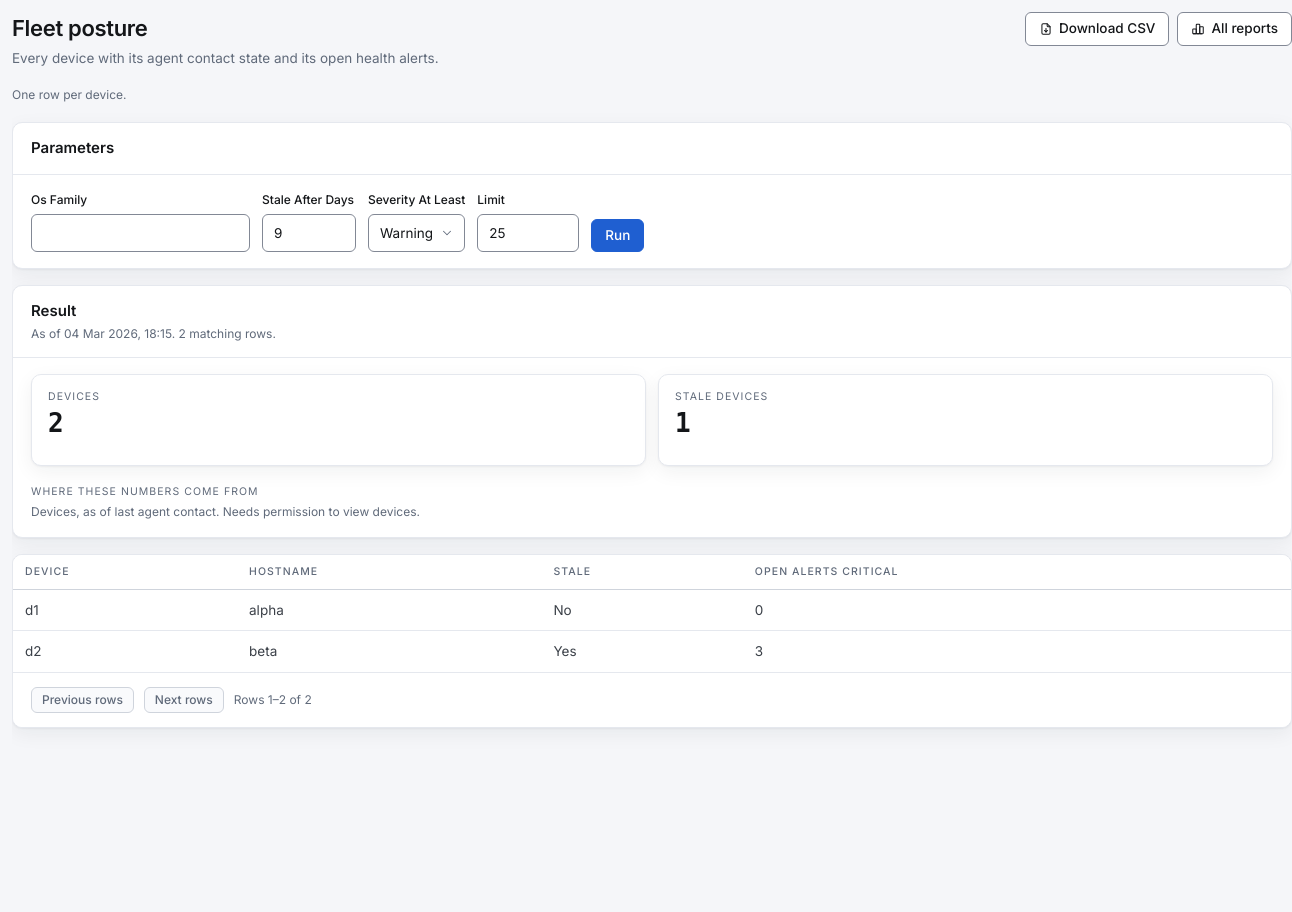
Scenario: a report page › explains a 413 as a refusal rather than a truncated file
The image size is (1292, 912).
Expected: the text "As of 04 Mar 2026, 18:15. 2 matching rows." is shown, [31,324,276,342]
Click the button "Download CSV". click: [1097, 29]
box: [1025,12,1170,46]
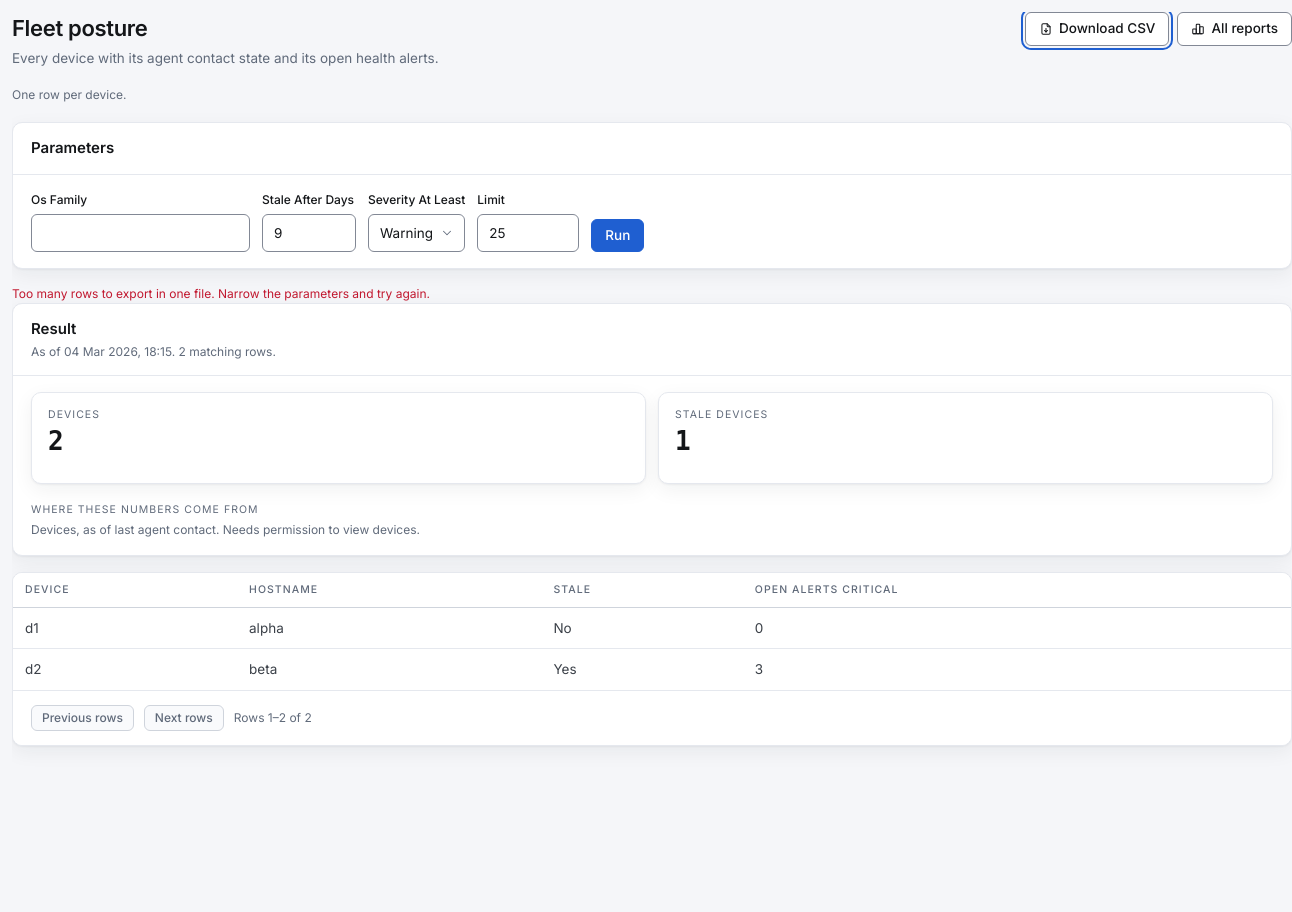
Result: the text "Too many rows to export in one file. Narrow the parameters and try again." is shown at [12,286,430,301]
